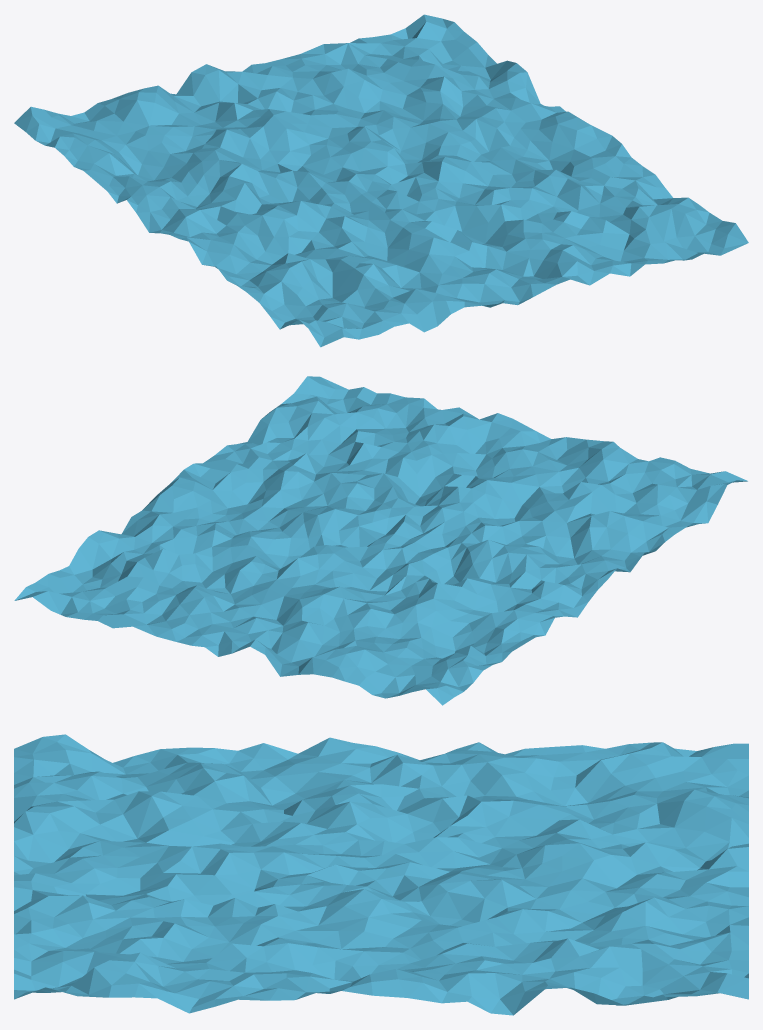
Rendered from riverwater.fbx.
3 renders of one model, top to bottom at view 1: azimuth 30°, elevation 25°; view 2: azimuth 150°, elevation 25°; view 3: azimuth 270°, elevation 25°, orthographic. The views are drawn at different scales.
Parts seen in each view (by area): view 1: Plane; view 2: Plane; view 3: Plane.
Boxes of the visible parts, bbox=[...] form: Plane: bbox=[14, 14, 748, 347]; Plane: bbox=[14, 376, 747, 705]; Plane: bbox=[14, 734, 748, 1015].
Bounding box in the file's own units: 1091 × 79.26 × 1351.
